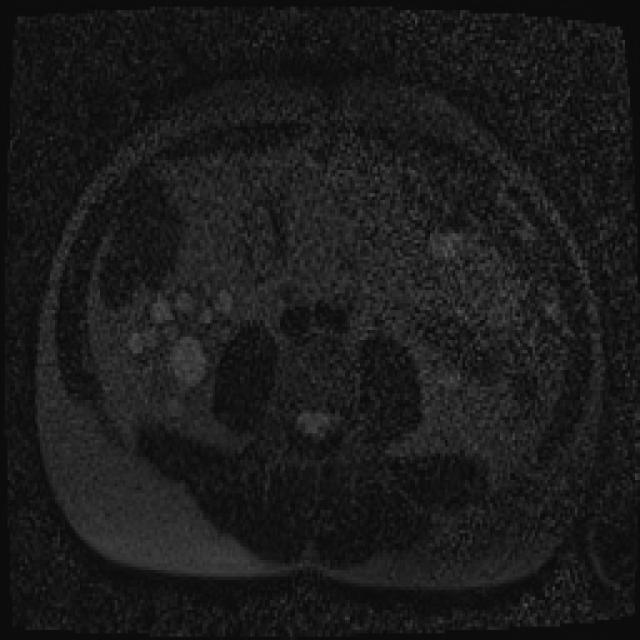sag: (126, 278, 239, 422)
sol: (422, 367, 462, 415)
